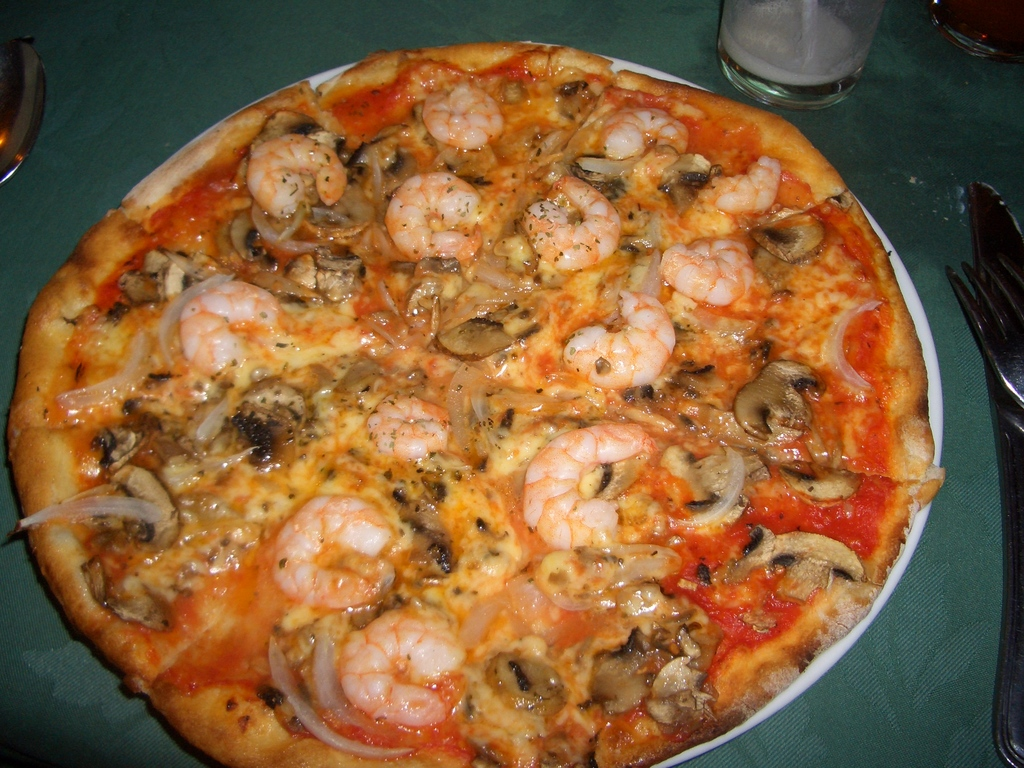Pizza: (0, 38, 943, 762)
